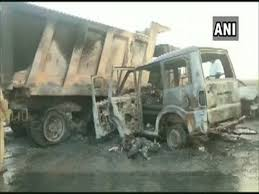accident: (29, 7, 228, 157)
